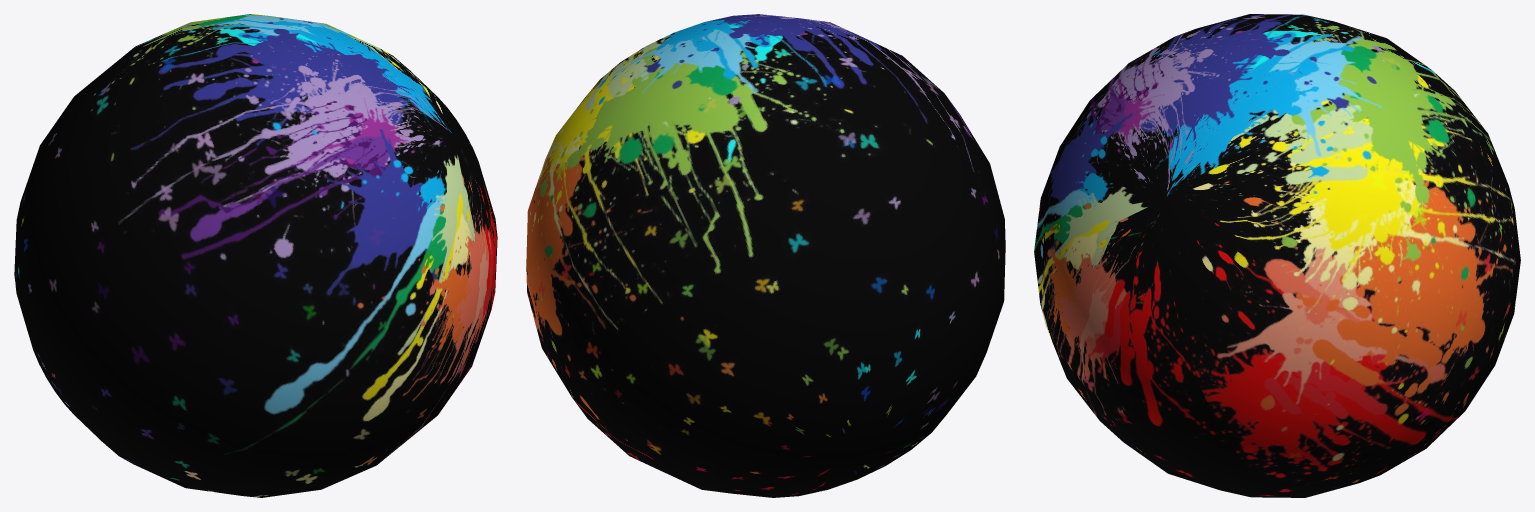
The picture shows the model from 3 angles, left to right: view 1: azimuth 30°, elevation 25°; view 2: azimuth 150°, elevation 25°; view 3: azimuth 270°, elevation 25°; orthographic projection.
Parts seen in each view (by area): view 1: Sphere; view 2: Sphere; view 3: Sphere.
Part boxes in pixels (x1=…): Sphere: x1=14, y1=14, x2=497, y2=497; Sphere: x1=526, y1=14, x2=1005, y2=497; Sphere: x1=1034, y1=14, x2=1520, y2=497.
Bounding box in the file's own units: 130 × 130 × 130.
Materials: 1 (1 with a texture image).
